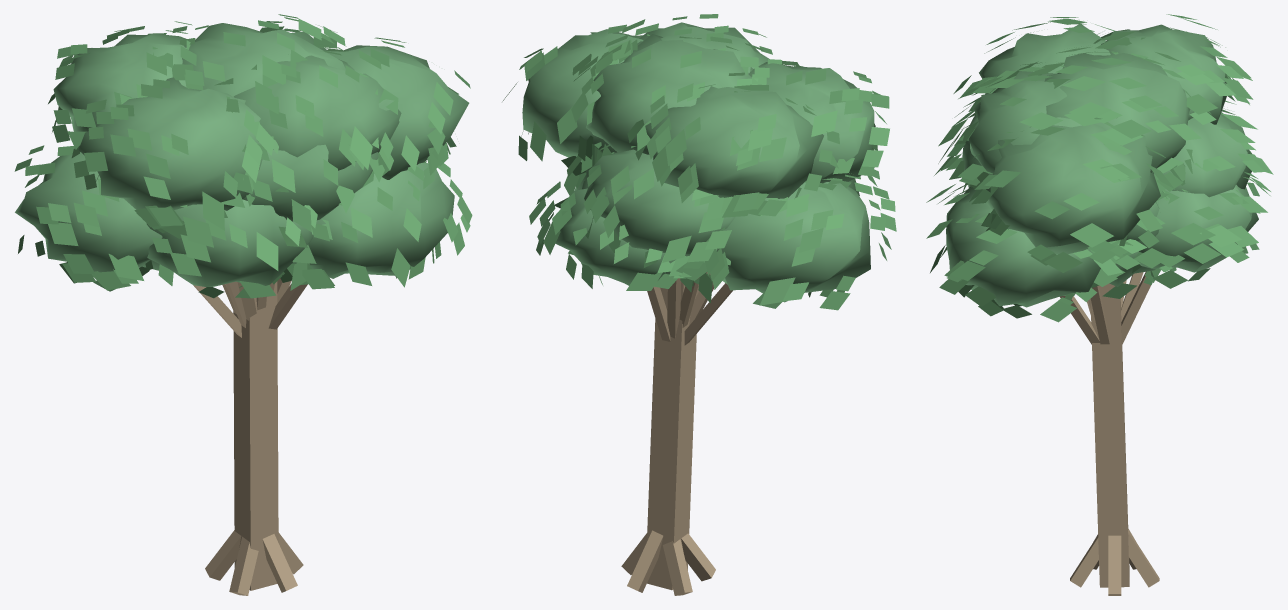
Rendered from linden.glb.
3 renders of one model, left to right at view 1: azimuth 30°, elevation 25°; view 2: azimuth 150°, elevation 25°; view 3: azimuth 270°, elevation 25°, orthographic. The views are drawn at different scales.
Visible parts, largest first — view 1: SourceMesh_00032, SourceMesh_00028, SourceMesh_00000, SourceMesh_00022, SourceMesh_00030, SourceMesh_00023, SourceMesh_00020, SourceMesh_00027, SourceMesh_00031, SourceMesh_00029, SourceMesh_00025, SourceMesh_00003 (+4 smaller); view 2: SourceMesh_00032, SourceMesh_00031, SourceMesh_00023, SourceMesh_00000, SourceMesh_00029, SourceMesh_00026, SourceMesh_00027, SourceMesh_00028, SourceMesh_00021, SourceMesh_00030, SourceMesh_00004, SourceMesh_00005 (+4 smaller); view 3: SourceMesh_00032, SourceMesh_00027, SourceMesh_00000, SourceMesh_00022, SourceMesh_00029, SourceMesh_00030, SourceMesh_00021, SourceMesh_00031, SourceMesh_00026, SourceMesh_00028, SourceMesh_00001, SourceMesh_00005 (+4 smaller).
Boxes of the visible parts, x1,y1,x2,y2 form: SourceMesh_00032: [14, 14, 472, 298]; SourceMesh_00028: [78, 77, 262, 210]; SourceMesh_00000: [233, 281, 278, 590]; SourceMesh_00022: [292, 163, 454, 278]; SourceMesh_00030: [233, 55, 401, 170]; SourceMesh_00023: [15, 152, 162, 272]; SourceMesh_00020: [146, 199, 313, 286]; SourceMesh_00027: [327, 45, 469, 179]; SourceMesh_00031: [53, 33, 188, 131]; SourceMesh_00029: [182, 23, 345, 103]; SourceMesh_00025: [243, 144, 378, 221]; SourceMesh_00003: [229, 536, 258, 595]; SourceMesh_00032: [502, 14, 896, 310]; SourceMesh_00031: [645, 86, 823, 198]; SourceMesh_00023: [716, 182, 870, 302]; SourceMesh_00000: [647, 282, 696, 590]; SourceMesh_00029: [586, 34, 753, 154]; SourceMesh_00026: [584, 149, 735, 256]; SourceMesh_00027: [522, 29, 643, 162]; SourceMesh_00028: [748, 62, 875, 183]; SourceMesh_00021: [555, 180, 675, 285]; SourceMesh_00030: [624, 22, 769, 72]; SourceMesh_00004: [663, 539, 692, 595]; SourceMesh_00005: [627, 530, 663, 592]; SourceMesh_00032: [926, 14, 1273, 322]; SourceMesh_00027: [986, 124, 1160, 254]; SourceMesh_00000: [1090, 283, 1129, 587]; SourceMesh_00022: [946, 186, 1100, 307]; SourceMesh_00029: [1044, 53, 1190, 173]; SourceMesh_00030: [968, 71, 1081, 174]; SourceMesh_00021: [1138, 184, 1258, 272]; SourceMesh_00031: [1095, 24, 1226, 124]; SourceMesh_00026: [1154, 112, 1251, 197]; SourceMesh_00028: [979, 23, 1110, 94]; SourceMesh_00001: [1108, 535, 1121, 595]; SourceMesh_00005: [1128, 530, 1159, 587].
Size of the model in its own units: 3.04 by 4.01 by 2.45.
